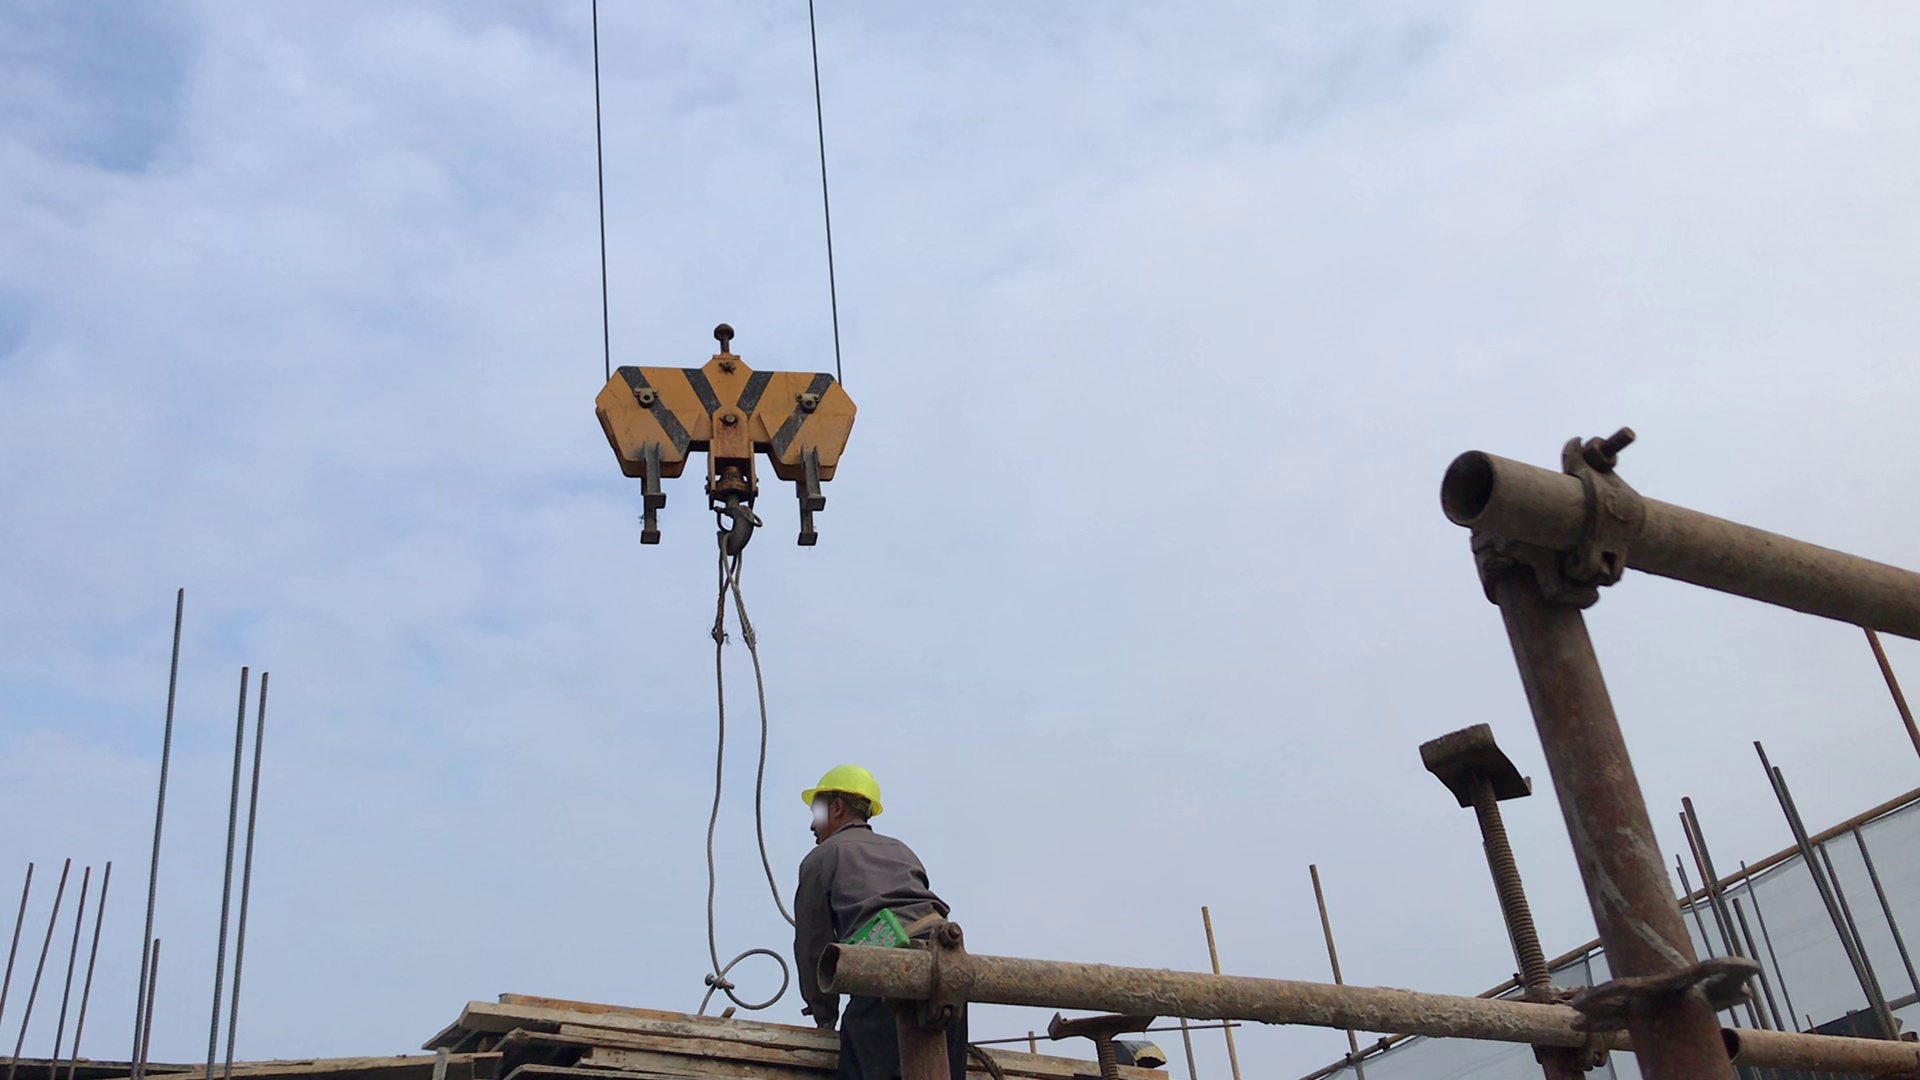board: (417, 982, 836, 1080)
helmet: (801, 768, 884, 823)
hook: (587, 320, 874, 564)
person: (786, 763, 892, 1080)
